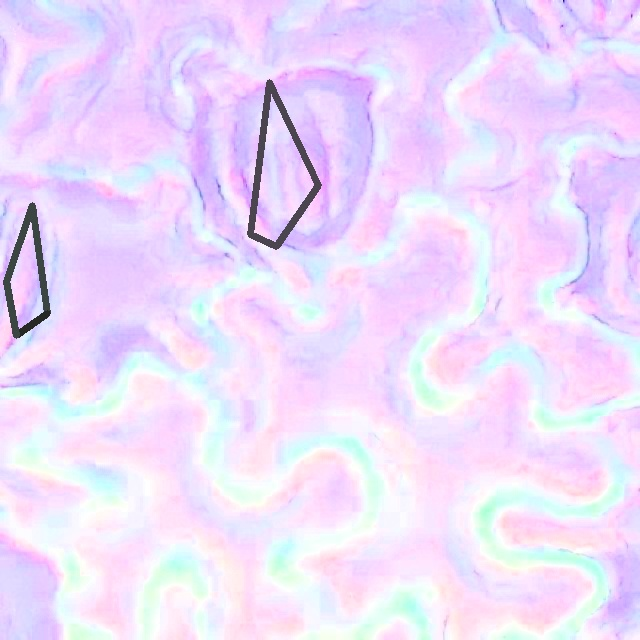open: (247, 79, 320, 249), (3, 202, 50, 338)
